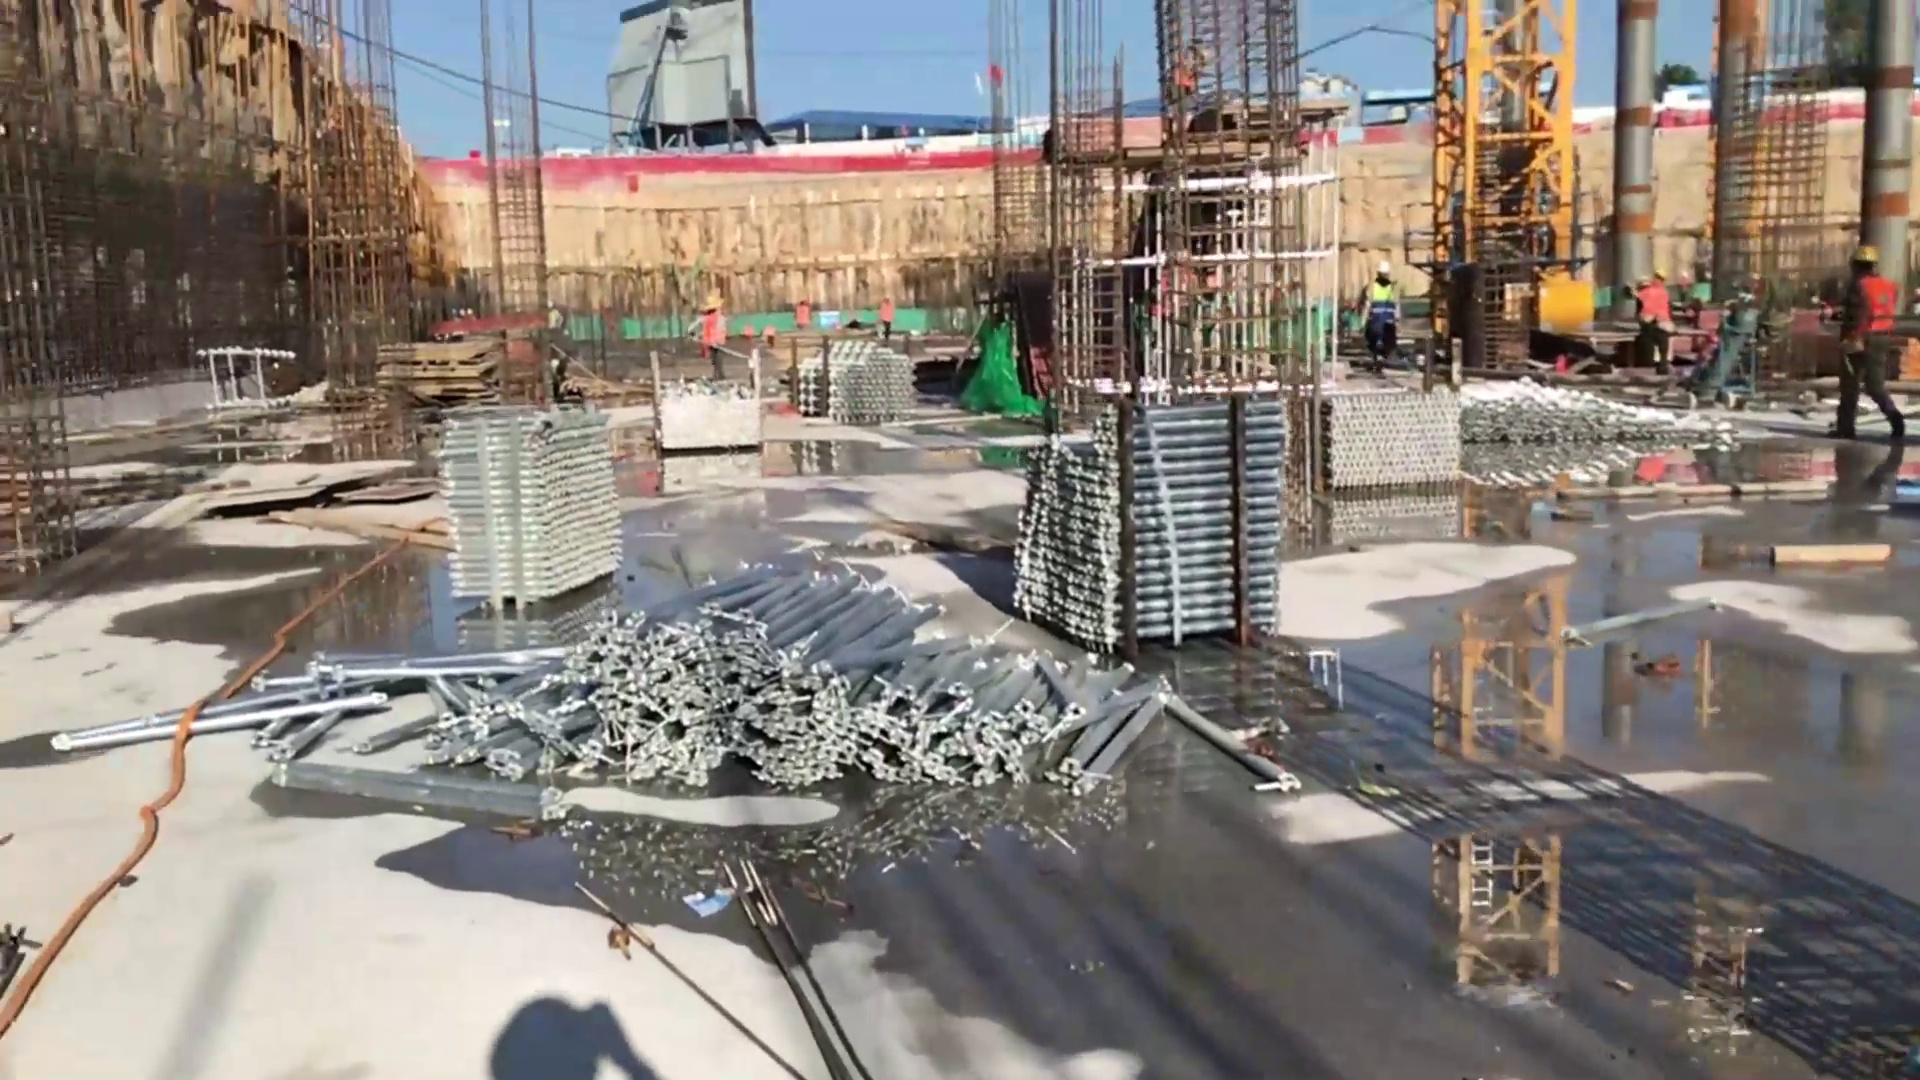board: (381, 338, 497, 411)
person: (1838, 249, 1904, 435), (1366, 269, 1405, 369), (1636, 265, 1673, 364), (694, 291, 731, 376), (877, 295, 897, 343), (793, 299, 813, 329)
scaffold: (532, 577, 1009, 793), (1014, 396, 1280, 635), (439, 411, 620, 589), (1322, 388, 1466, 487)
vest: (1852, 279, 1893, 342), (1368, 280, 1395, 328)
